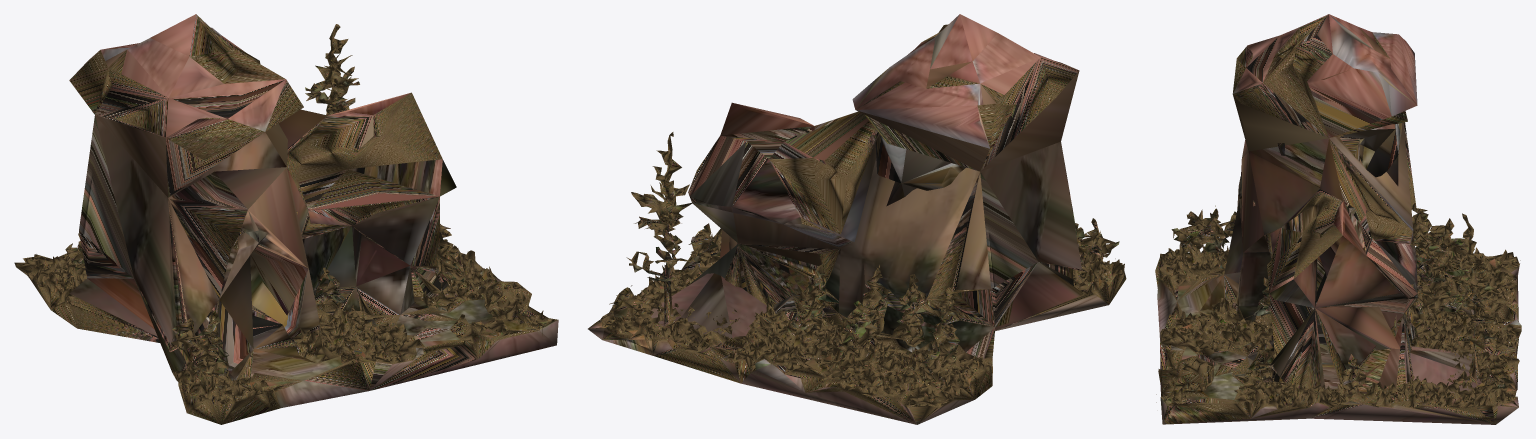
The model's file is Vintage_Stone_Villa.glb.
3 renders of one model, left to right at view 1: azimuth 30°, elevation 25°; view 2: azimuth 150°, elevation 25°; view 3: azimuth 270°, elevation 25°, orthographic. The views are drawn at different scales.
Parts seen in each view (by area): view 1: Vintage_Stone_Villa; view 2: Vintage_Stone_Villa; view 3: Vintage_Stone_Villa.
Boxes of the visible parts, x1=… form: Vintage_Stone_Villa: x1=14, y1=14, x2=558, y2=424; Vintage_Stone_Villa: x1=588, y1=14, x2=1126, y2=424; Vintage_Stone_Villa: x1=1155, y1=14, x2=1521, y2=424.
Size of the model in its own units: 1.86 by 1.64 by 1.86.
1 material, 1 textured.
